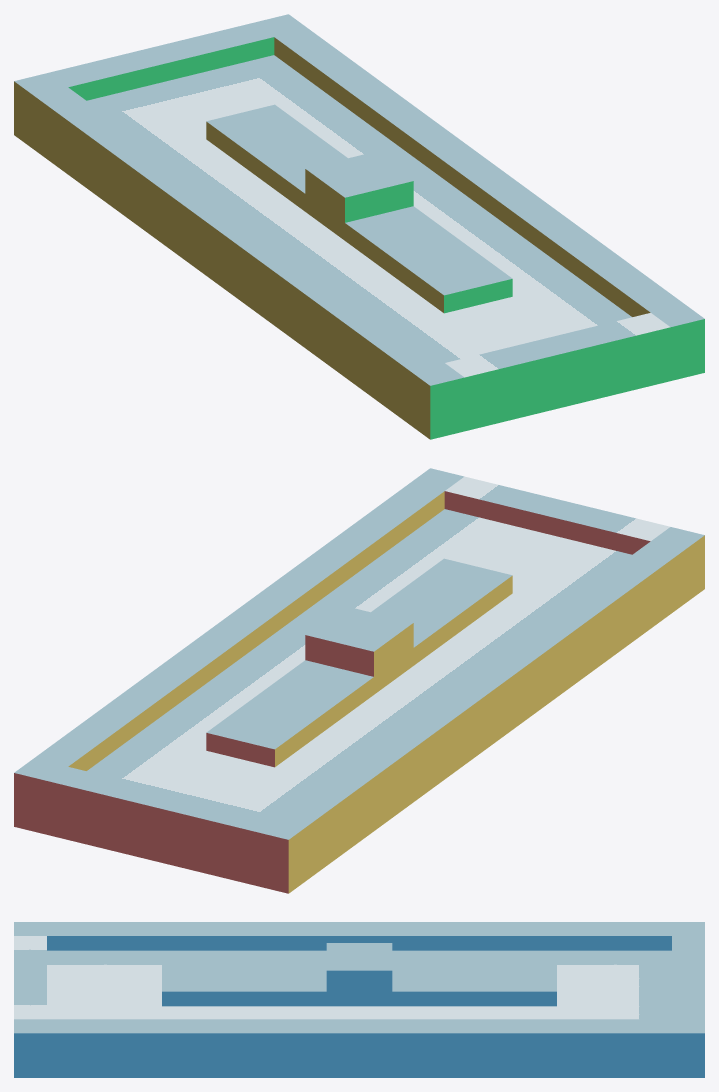
Rendered from lever_base.obj.
3 renders of one model, top to bottom at view 1: azimuth 30°, elevation 25°; view 2: azimuth 150°, elevation 25°; view 3: azimuth 270°, elevation 25°, orthographic. The views are drawn at different scales.
Parts seen in each view (by area): view 1: body; view 2: body; view 3: body.
Boxes of the visible parts, box(x1,y1,x2,y2) form: body: box(14, 14, 704, 439); body: box(14, 468, 704, 893); body: box(14, 922, 704, 1077).
Size of the model in its own units: 0.25 by 0.0688 by 0.6562.
Materials: 1 (1 with a texture image).
